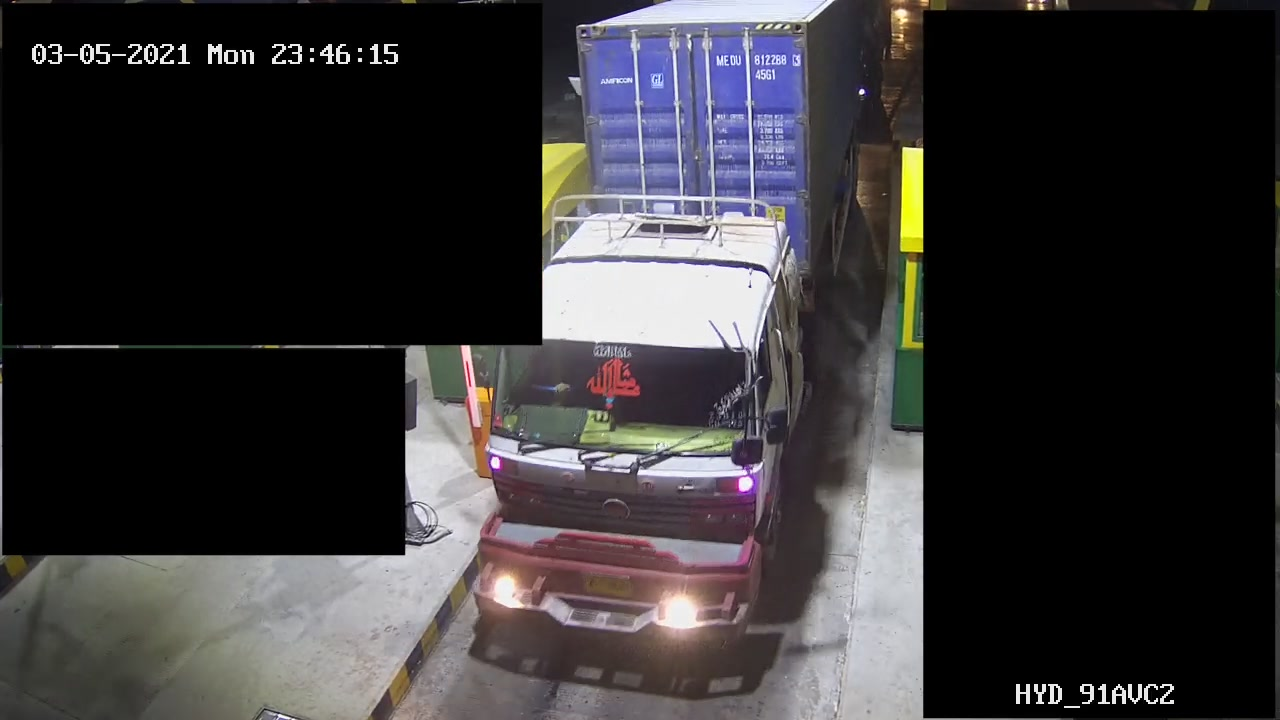F6: (457, 1, 878, 685)
